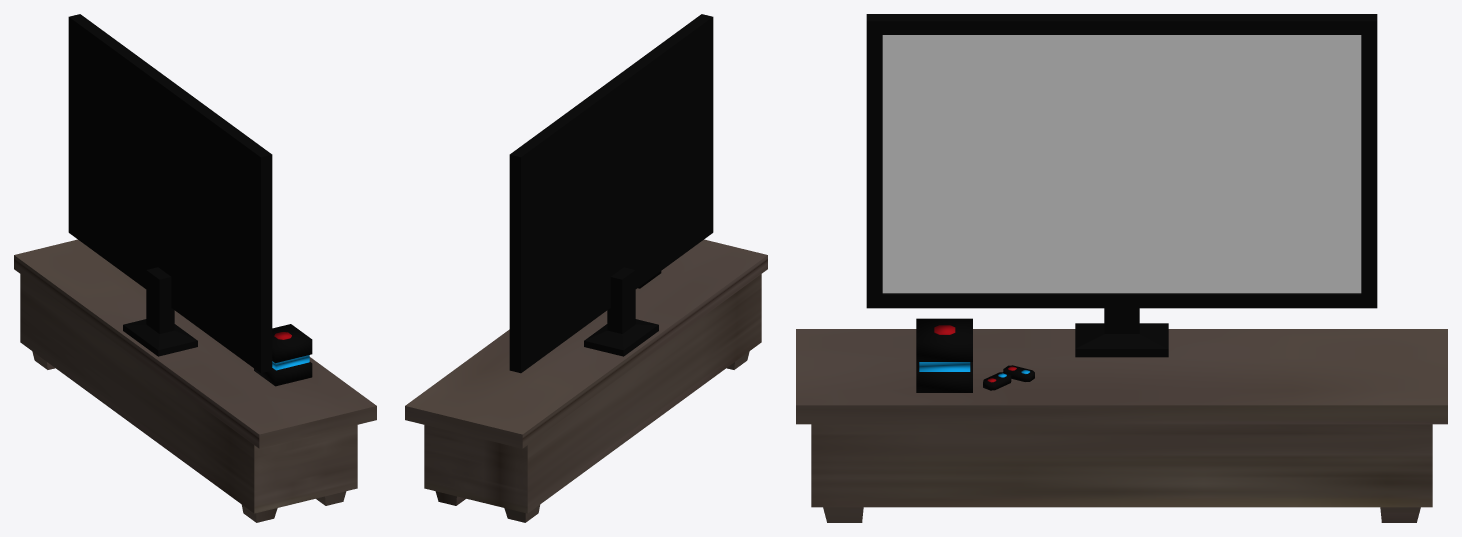
Rendered from TVandGameConsole.fbx.
The picture shows the model from 3 angles, left to right: view 1: azimuth 30°, elevation 25°; view 2: azimuth 150°, elevation 25°; view 3: azimuth 270°, elevation 25°; orthographic projection. The views are drawn at different scales.
Parts seen in each view (by area): view 1: TV, Table, Wonky; view 2: TV, Table; view 3: TV, Table, Wonky.
Part boxes in pixels (x1,y1,x2,y2): TV: [68, 14, 272, 373]; Table: [14, 239, 376, 522]; Wonky: [254, 324, 312, 386]; TV: [509, 14, 713, 373]; Table: [405, 239, 767, 522]; TV: [866, 14, 1377, 357]; Table: [796, 329, 1447, 522]; Wonky: [916, 318, 972, 392].
Bounding box in the file's own units: 32.13 × 91.36 × 116.
